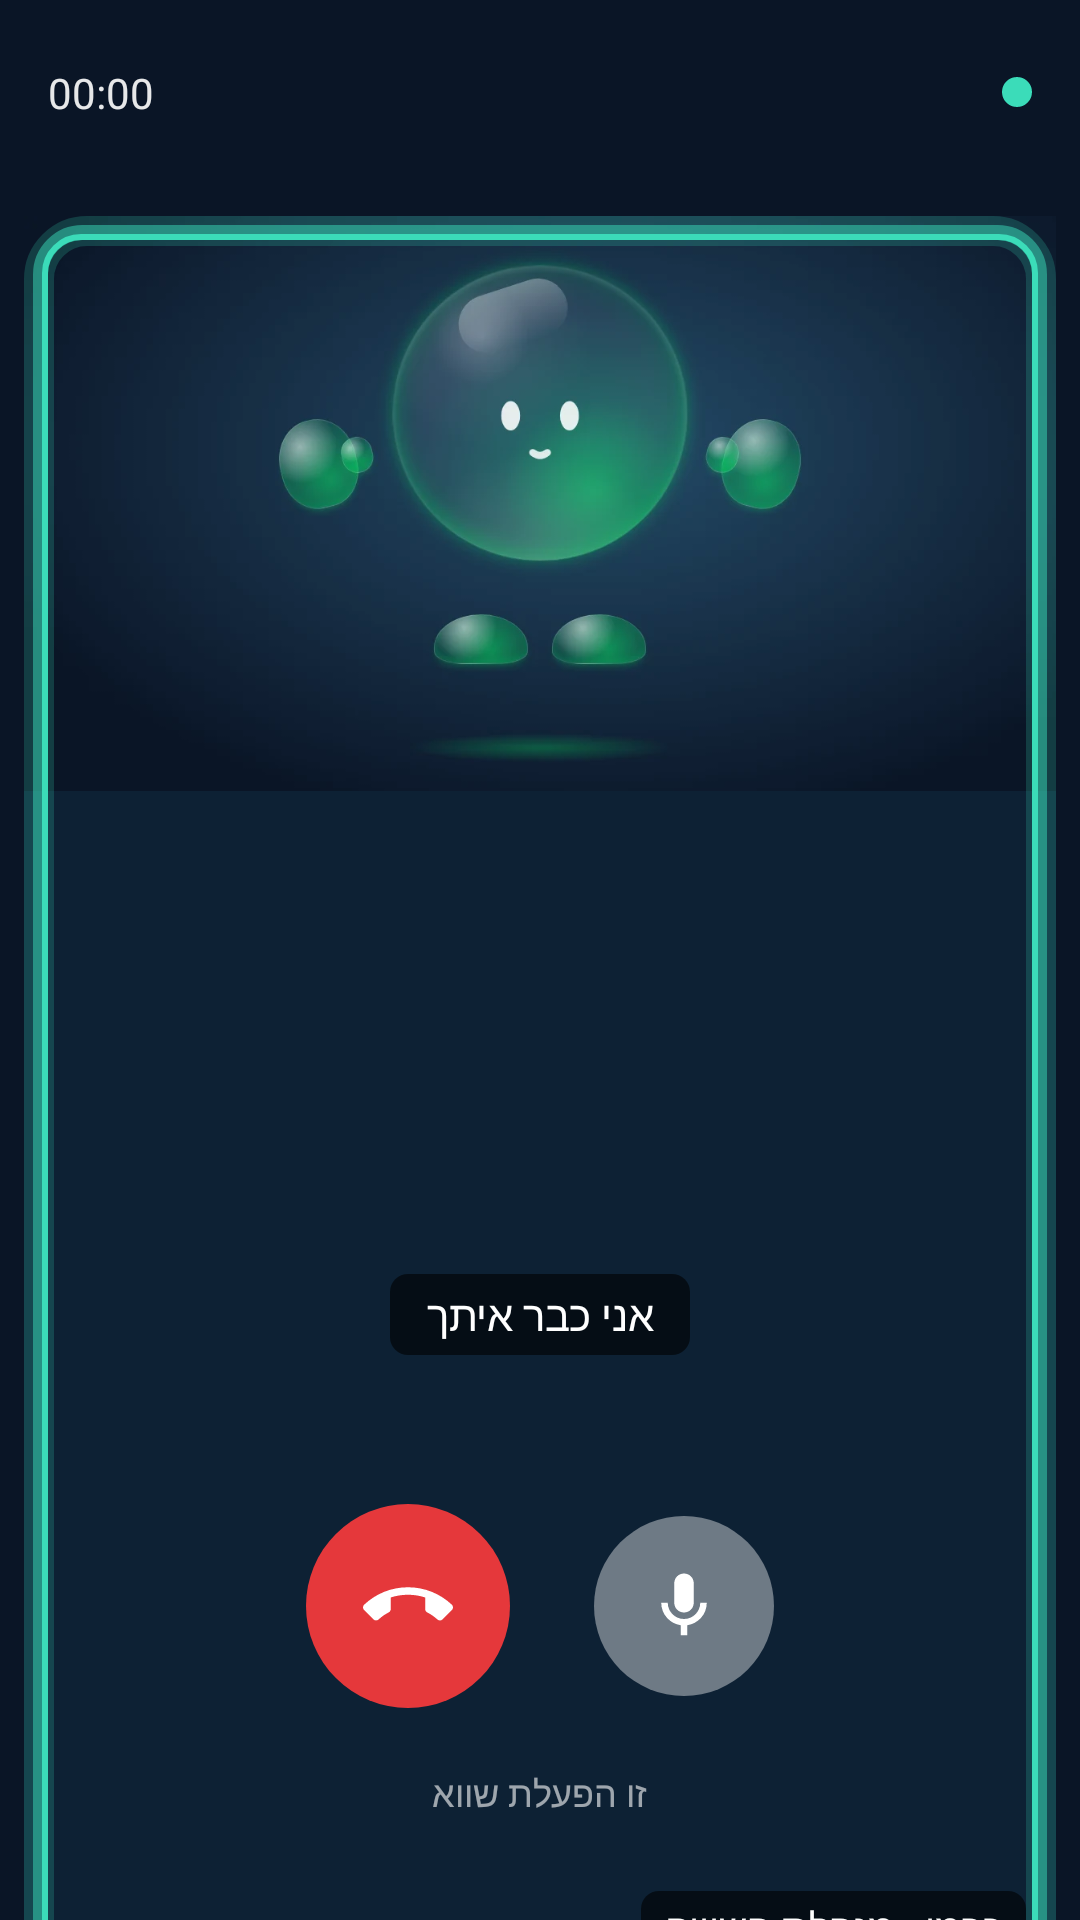

Where icons sit on this 1080px×1920px app screen, as BBox(x1, y1, x2, y2):
השתקת המיקרופון: BBox(594, 1516, 774, 1696)
סגור: BBox(306, 1504, 510, 1708)
